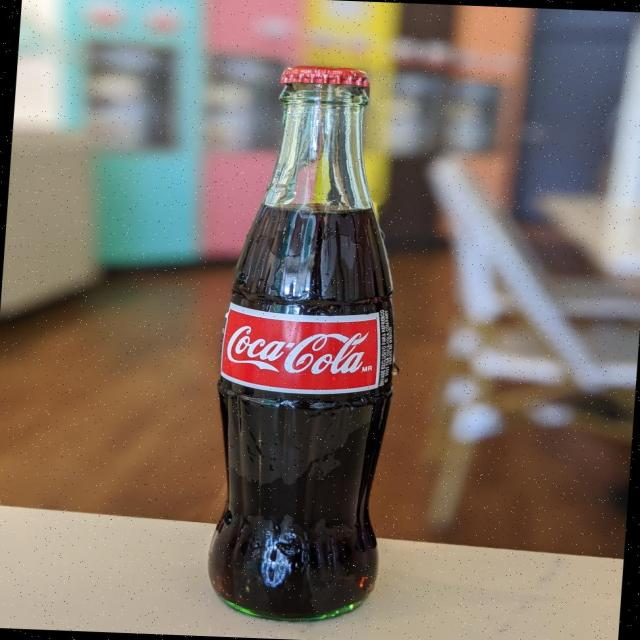coca-cola: (197, 52, 424, 626)
